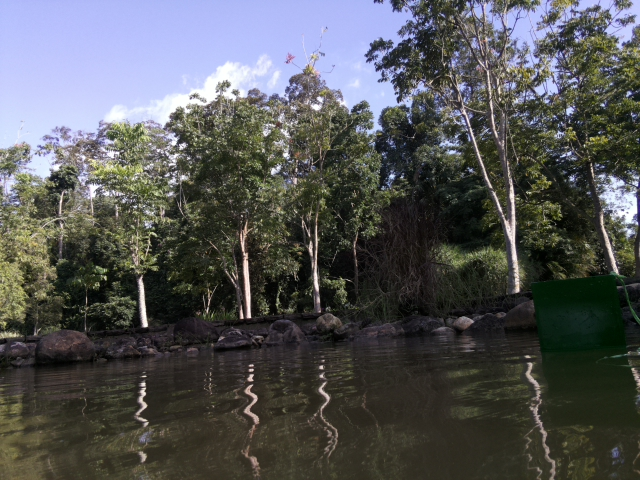obstacle: (529, 275, 630, 353)
